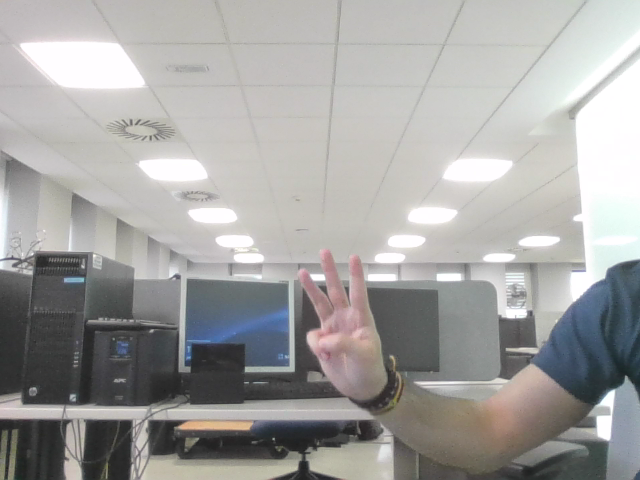3Dedos: (306, 261, 366, 367)
